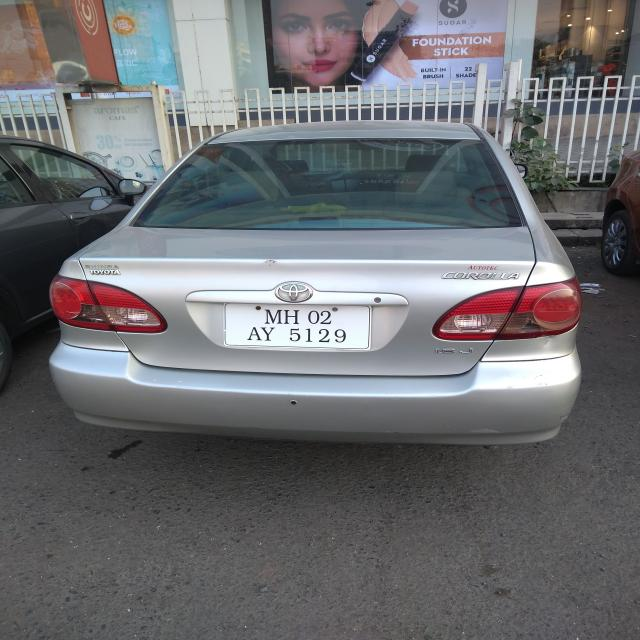Number-Plate: (225, 302, 370, 348)
